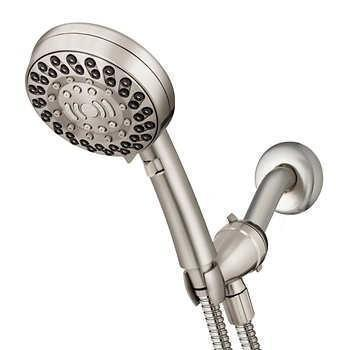Ducha: (22, 13, 336, 349)
